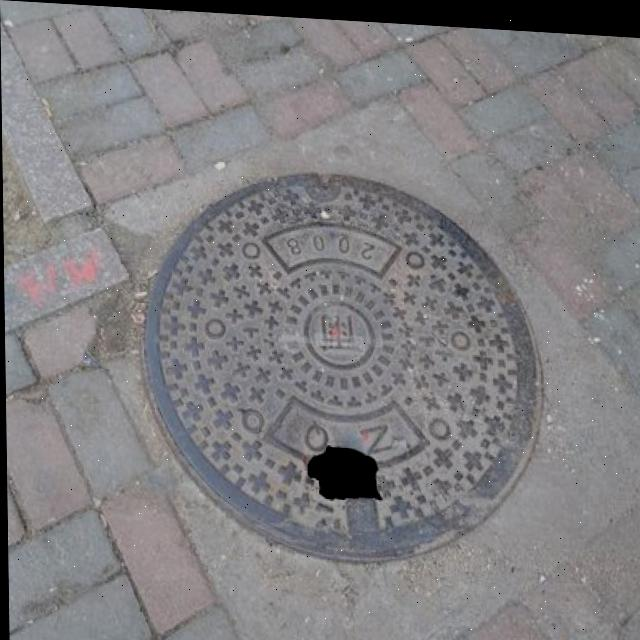manhole: (128, 146, 550, 575)
